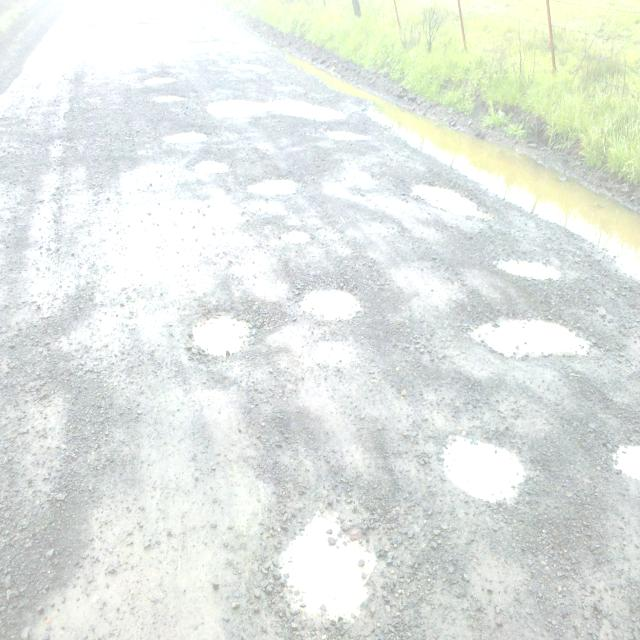Pothole: (143, 30, 640, 640), (227, 408, 486, 640), (175, 286, 368, 364)
